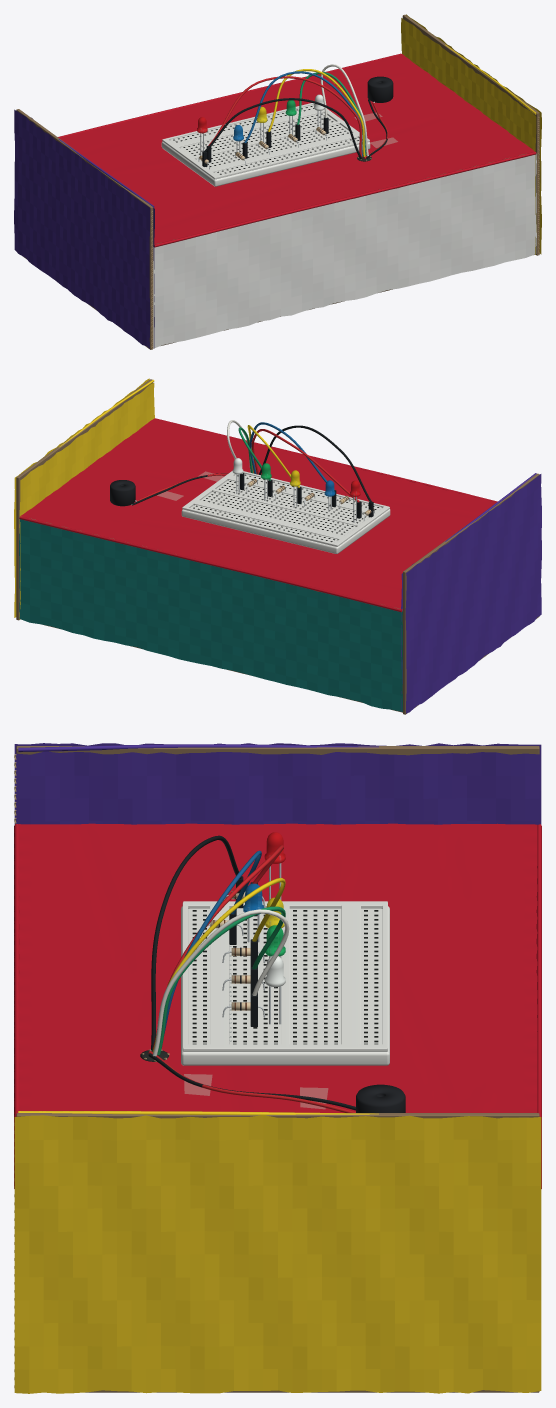
The model's file is product.glb.
The picture shows the model from 3 angles, top to bottom: view 1: azimuth 30°, elevation 25°; view 2: azimuth 150°, elevation 25°; view 3: azimuth 270°, elevation 25°; orthographic projection. The views are drawn at different scales.
Parts seen in each view (by area): view 1: structure, board, wire-red, wire-black, buzzer, wire-yellow, wire-blue, wire-white, wire-green; view 2: structure, board, buzzer, wire-black, wire-red, wire-blue; view 3: structure, board, wire-white, wire-black, buzzer, wire-yellow, wire-green, wire-blue, wire-red.
Part boxes in pixels (x1,y1,x2,y2): structure: (14, 14, 541, 349); board: (161, 103, 370, 186); wire-red: (206, 76, 362, 162); wire-black: (202, 98, 361, 166); buzzer: (367, 76, 393, 102); wire-yellow: (266, 69, 365, 156); wire-blue: (242, 71, 362, 158); wire-white: (320, 64, 368, 156); wire-green: (295, 72, 366, 155); structure: (14, 378, 541, 714); board: (181, 471, 390, 553); buzzer: (110, 480, 136, 506); wire-black: (259, 425, 373, 517); wire-red: (251, 429, 361, 518); wire-blue: (249, 422, 336, 507); structure: (14, 743, 541, 1393); board: (181, 901, 389, 1065); wire-white: (152, 909, 289, 1056); wire-black: (151, 835, 243, 1050); buzzer: (356, 1084, 405, 1112); wire-yellow: (152, 878, 285, 1052); wire-green: (157, 906, 285, 1054); wire-blue: (164, 850, 261, 1035); wire-red: (152, 845, 283, 1049).
Bounding box in the file's own units: 4.73 × 2.13 × 2.83.
